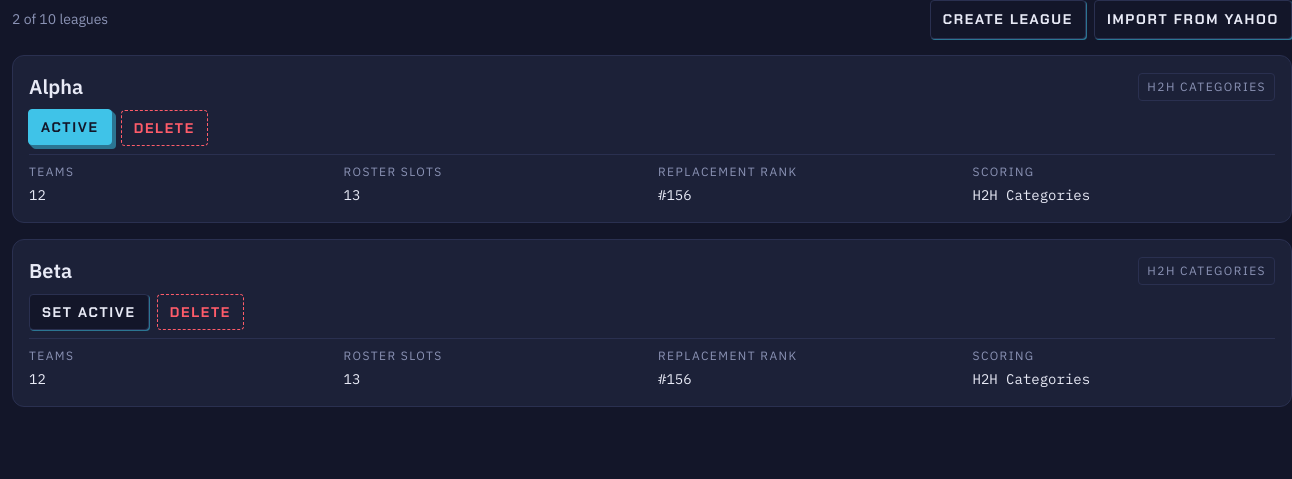
Test: LeagueList › reverts the active league and shows an alert when setActiveLeague fails
Click the button "Set active": (89, 312) [29,294,149,330]
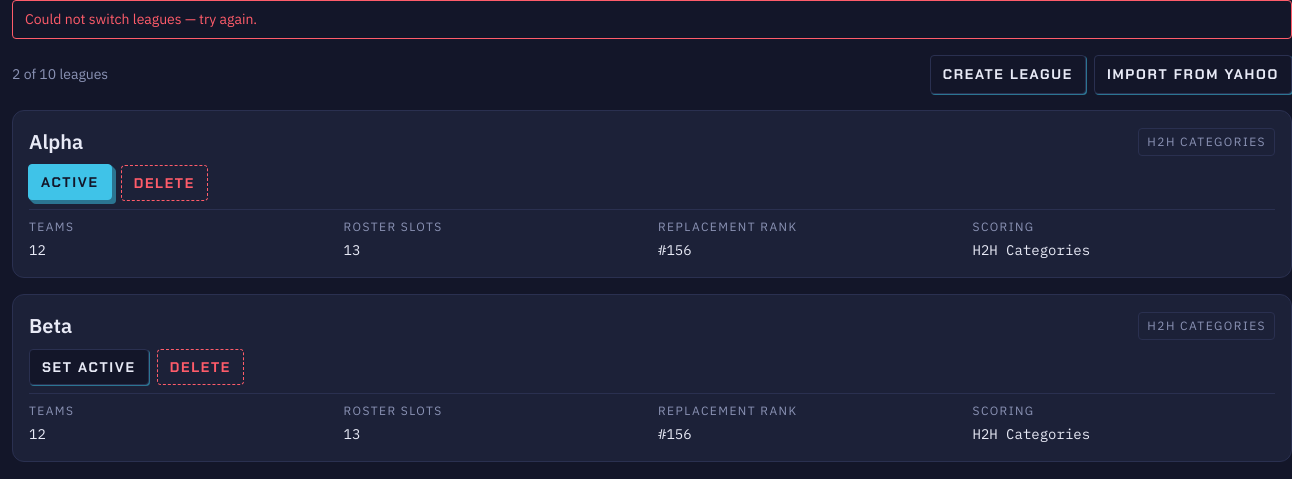
Expected: the button "Active" is shown, [28,164,112,200]
Expected: the message reads "Could not switch leagues — try again.", [25,10,257,28]
